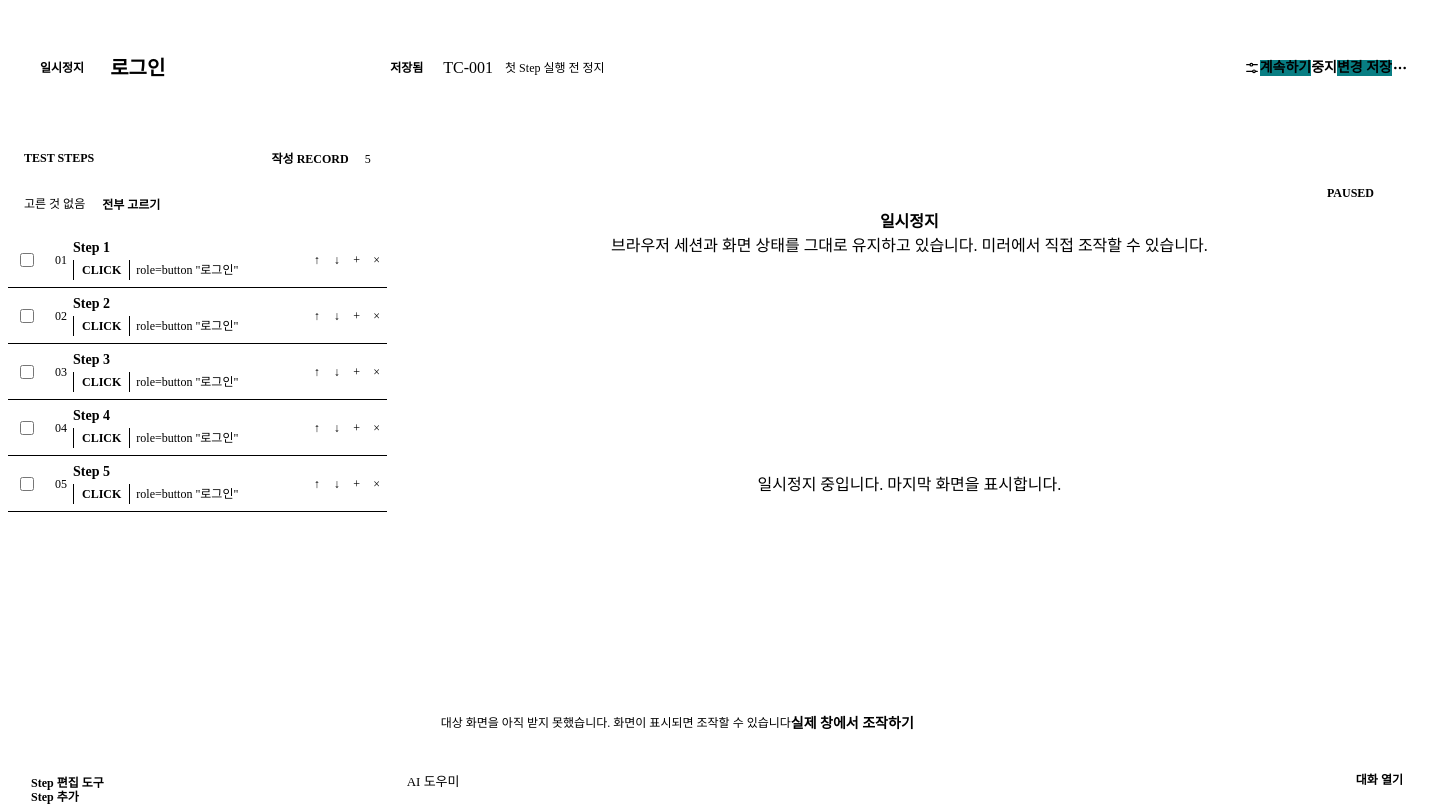
it: UC-011-18 — 확인이 개수와 범위를 말한다 › 「이 뒤 전부」는 연속 구간이므로 범위와 개수를 함께 말한다
Expected: the checkbox named "Step 1 지울 대상으로 고르기" is shown, [20, 252, 34, 266]
Click the button "Step 2".
click(181, 304)  # box [73, 295, 289, 313]
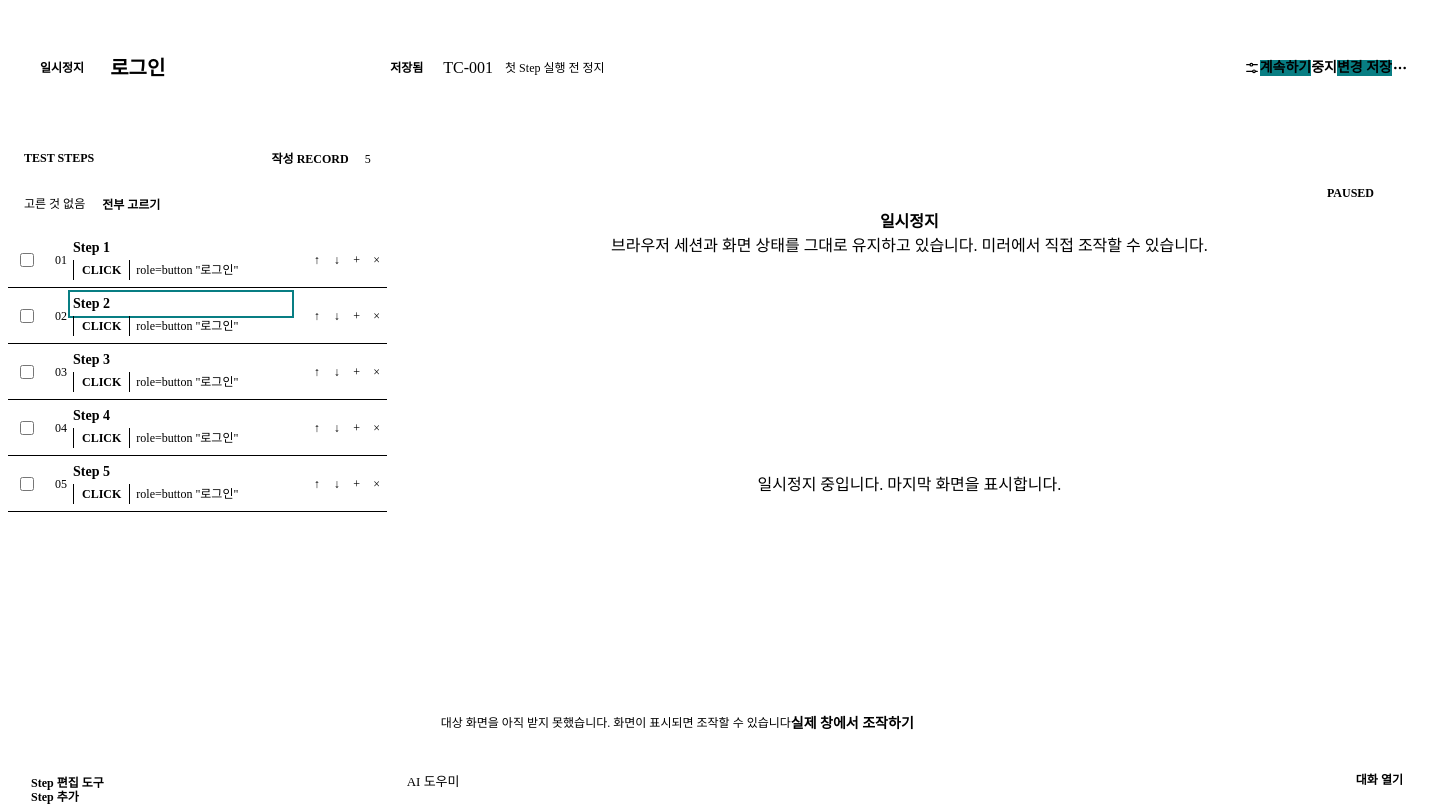
Click the button "Step 편집 도구".
click(67, 783)  # box [22, 776, 113, 790]
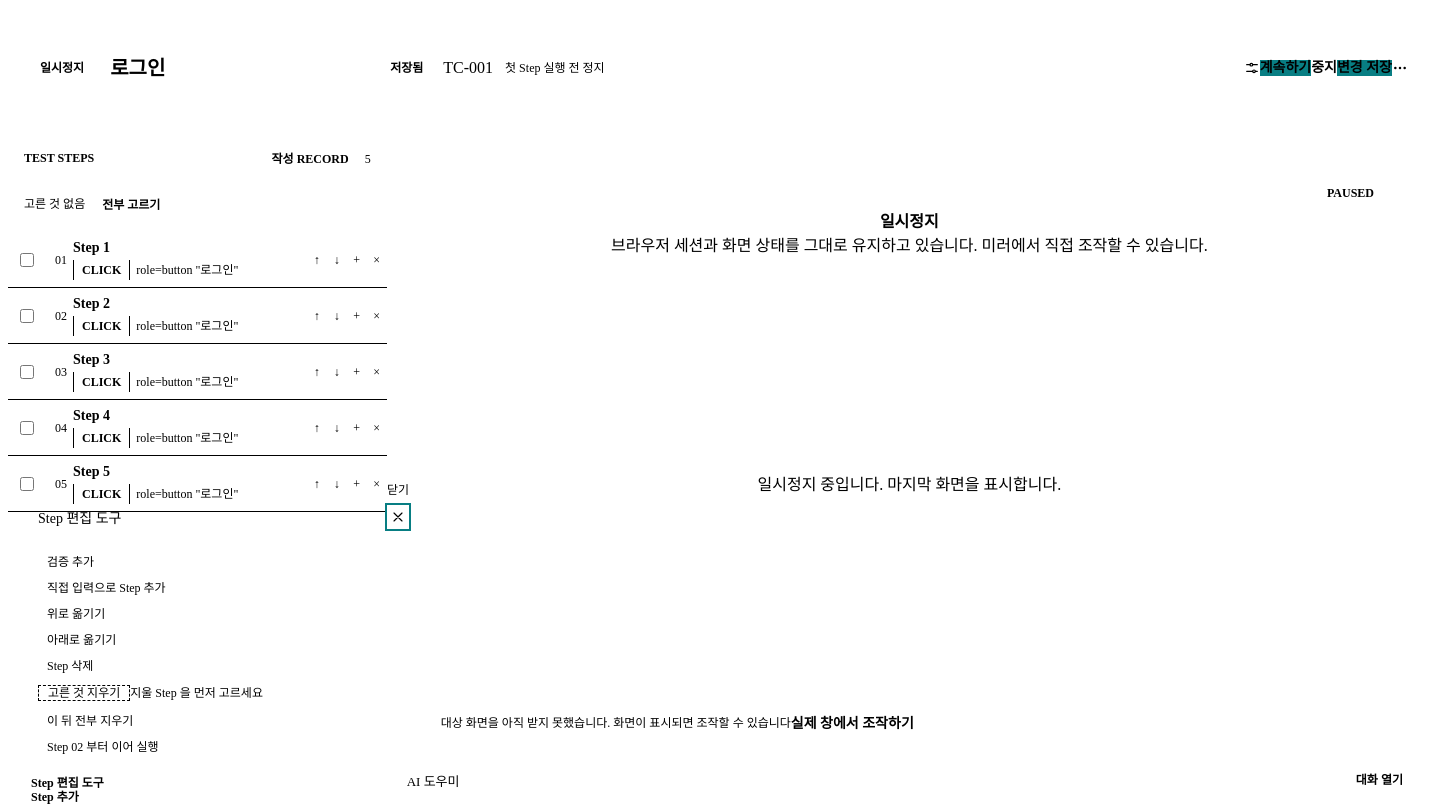
Click the button "이 뒤 전부 지우기".
click(90, 721)  # box [38, 714, 142, 728]
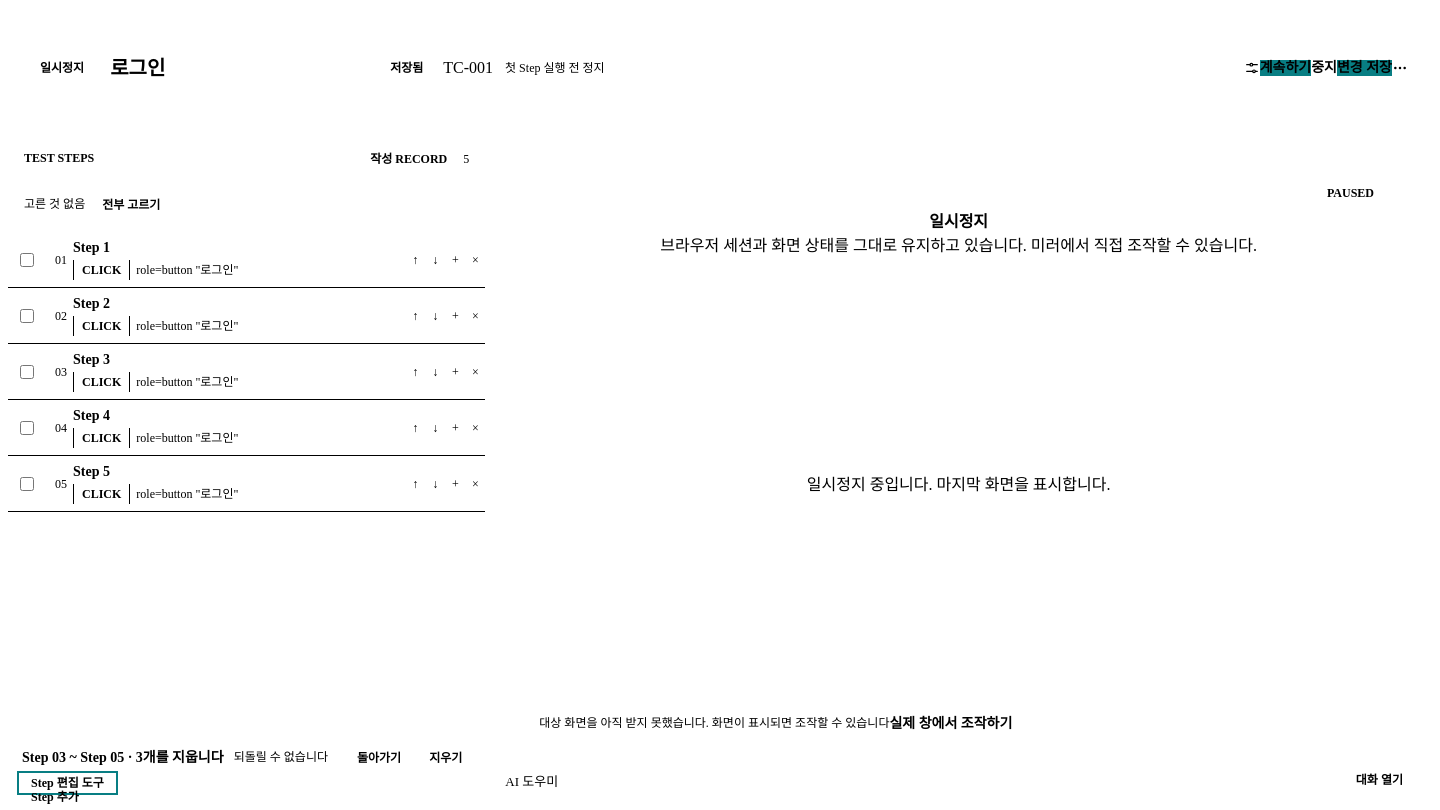
Expected: the message "Step 03 ~ Step 05 · 3개를 지웁니다 되돌릴 수 없습니다 돌아가기 지우기" is shown, [22, 749, 471, 766]
